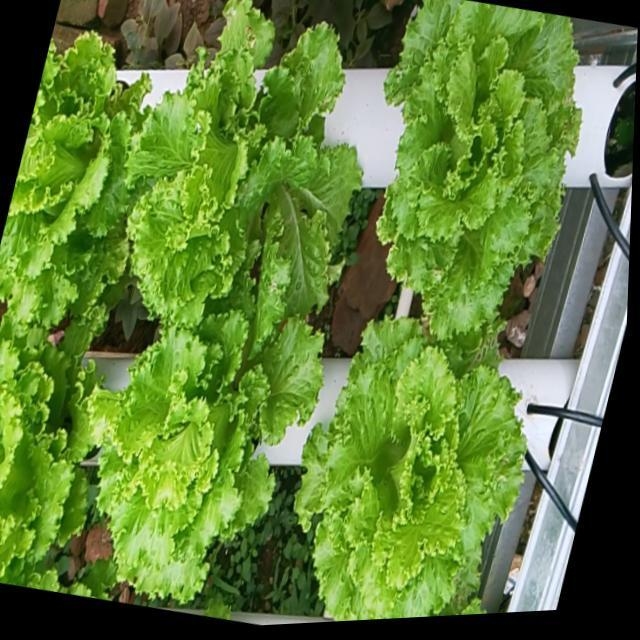Mature: (123, 0, 394, 324), (375, 0, 580, 347), (293, 320, 525, 622), (87, 313, 321, 609), (0, 35, 146, 332), (0, 308, 93, 585)
